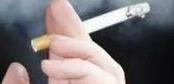smoke: (30, 2, 151, 52)
